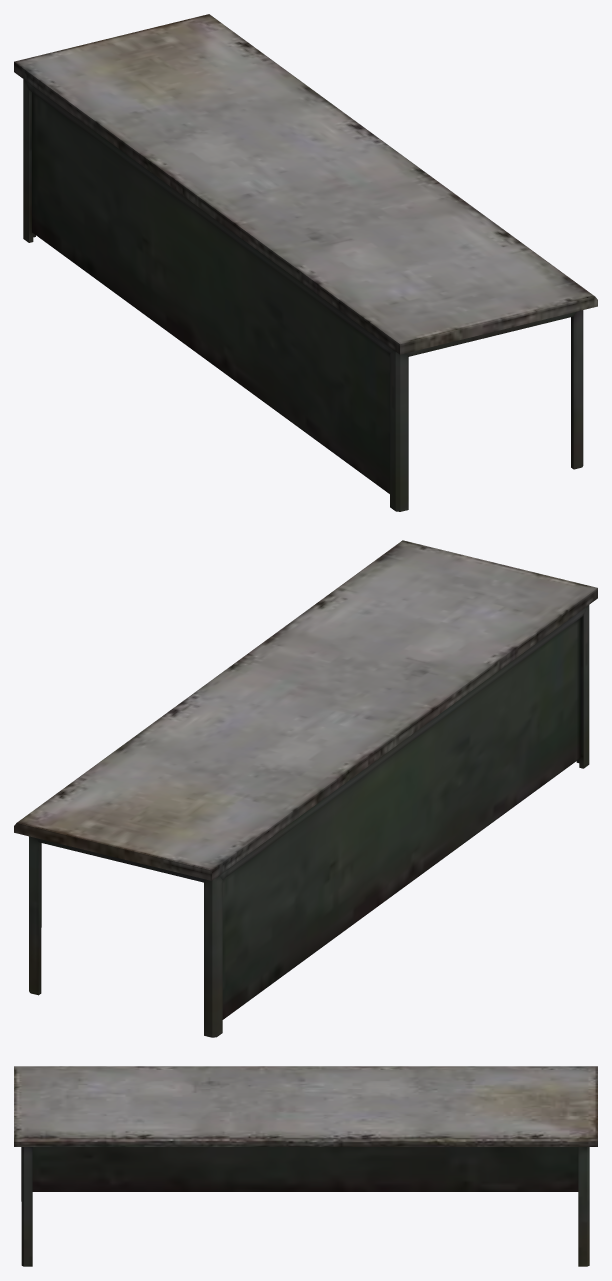
The model's file is controlroom_desk001a.glb.
3 views of the same model, one above another, from view 1: azimuth 30°, elevation 25°; view 2: azimuth 150°, elevation 25°; view 3: azimuth 270°, elevation 25° (orthographic). The views are drawn at different scales.
Parts seen in each view (by area): view 1: 0_controlroom_tables001; view 2: 0_controlroom_tables001; view 3: 0_controlroom_tables001.
Part boxes in pixels (x1,y1,x2,y2): 0_controlroom_tables001: (14, 14, 597, 511); 0_controlroom_tables001: (14, 540, 597, 1037); 0_controlroom_tables001: (14, 1066, 597, 1266).
Bounding box in the file's own units: 1.02 × 0.848 × 3.44.
Materials: 1 (1 with a texture image).
